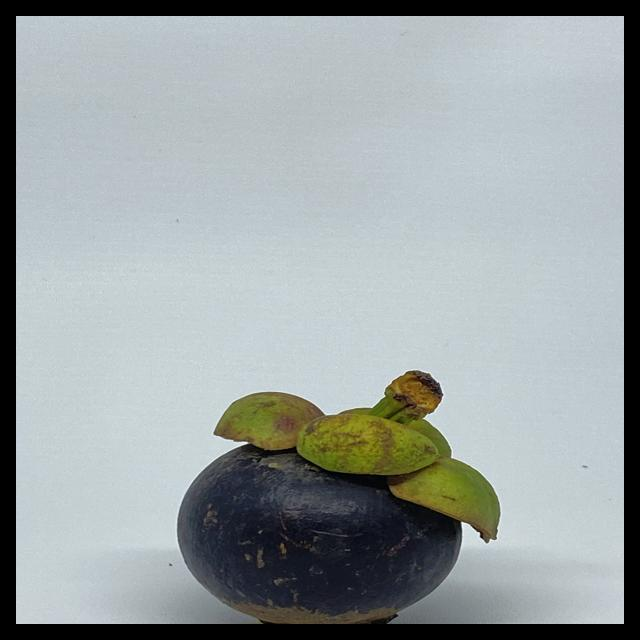mangosteen: (148, 363, 508, 624)
